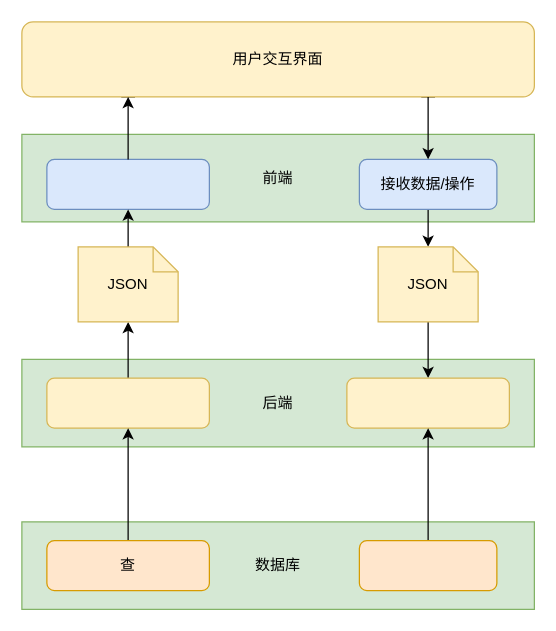
Image size: 556x631. Some labels were removed from this diagram. The shapes that lost their labels are listed below. From the top down, each one's centre as x and y in pixels, then its label:
the point at 127,183: 显示数据
the point at 127,402: 获取数据
the point at 427,402: 获取数据/操作
the point at 427,565: 增删改
